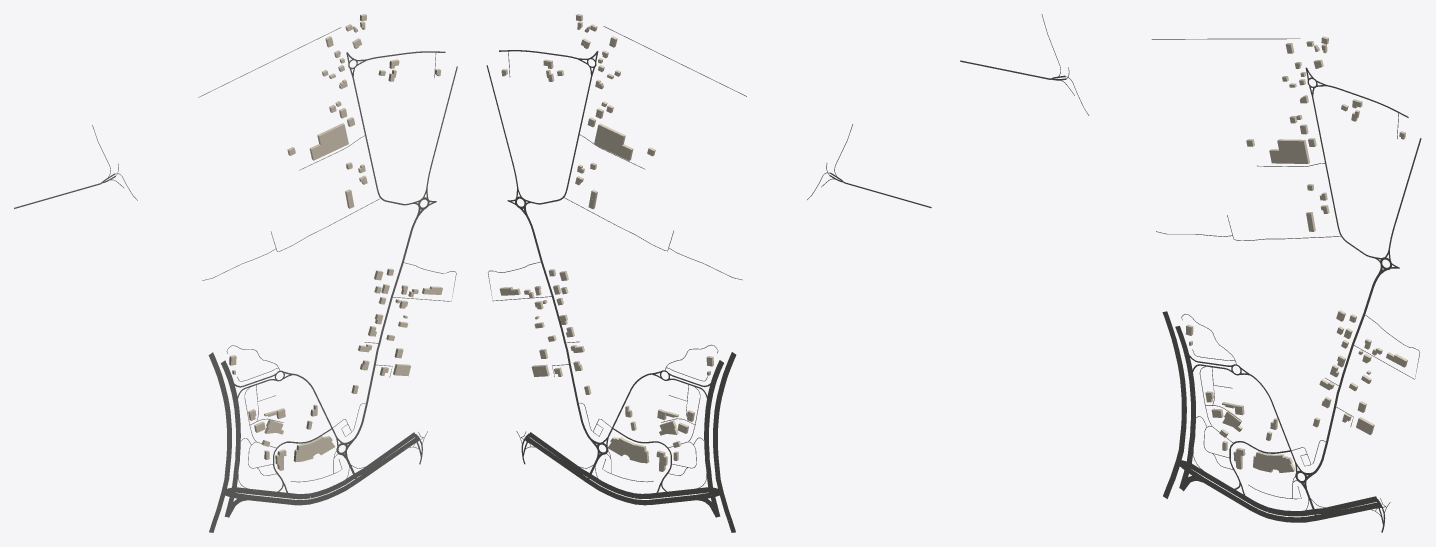
File: historic-palestine-06_23_3478_3176.glb
3 views of the same model, side by side, from view 1: azimuth 30°, elevation 25°; view 2: azimuth 150°, elevation 25°; view 3: azimuth 330°, elevation 25° (orthographic). The views are drawn at different scales.
Parts seen in each view (by area): view 1: Road 3.005, Building_.014, Road 40.001, Road 40, Building_.008, Road 3.006, Road .058; view 2: Road 3.005, Building_.014, Road 40.001, Road 40, Building_.008, Road 3.006, Road .058; view 3: Road 3.005, Building_.014, Road 40.001, Road 40, Building_.008, Road 3.006, Road .058.
Boxes of the visible parts, x1,y1,x2,y2 form: Road 3.005: [248, 438, 416, 505]; Building_.014: [309, 123, 348, 160]; Road 40.001: [208, 352, 231, 491]; Road 40: [221, 360, 240, 489]; Building_.008: [293, 436, 335, 462]; Road 3.006: [310, 432, 414, 498]; Road .058: [353, 217, 417, 440]; Road 3.005: [528, 437, 696, 505]; Building_.014: [594, 123, 633, 160]; Road 40.001: [713, 352, 736, 491]; Road 40: [704, 360, 723, 489]; Building_.008: [607, 437, 649, 463]; Road 3.006: [529, 432, 634, 498]; Road .058: [526, 216, 591, 439]; Road 3.005: [1203, 478, 1377, 522]; Building_.014: [1269, 139, 1309, 163]; Road 40.001: [1162, 311, 1186, 462]; Road 40: [1175, 326, 1195, 465]; Building_.008: [1253, 451, 1295, 472]; Road 3.006: [1268, 496, 1376, 516]; Road .058: [1312, 274, 1379, 474].
Size of the model in its own units: 1084 by 1121 by 8.83.
